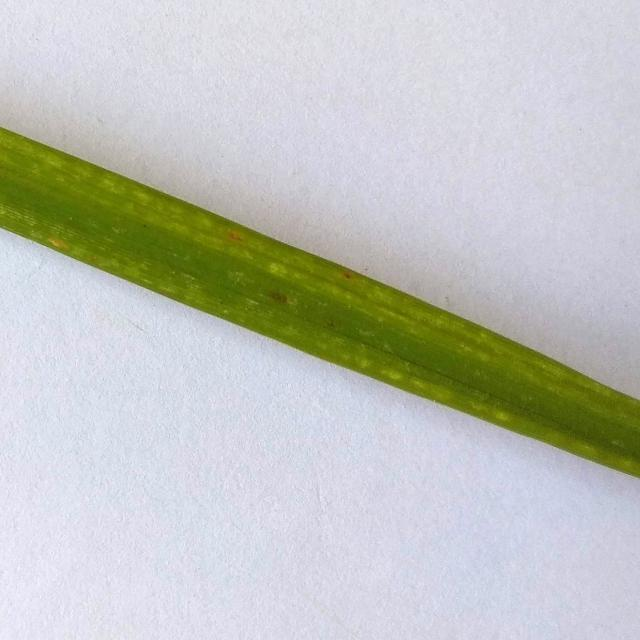brownspots: (211, 224, 257, 252), (262, 280, 296, 310), (339, 265, 357, 287)
